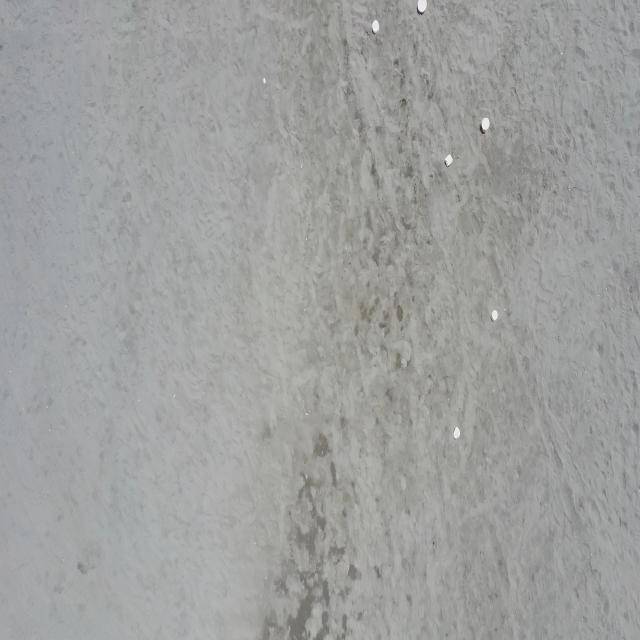take-away-containers: (481, 117, 490, 134), (417, 0, 427, 14), (444, 153, 453, 168), (452, 425, 460, 441), (372, 19, 379, 34), (491, 309, 498, 322)
